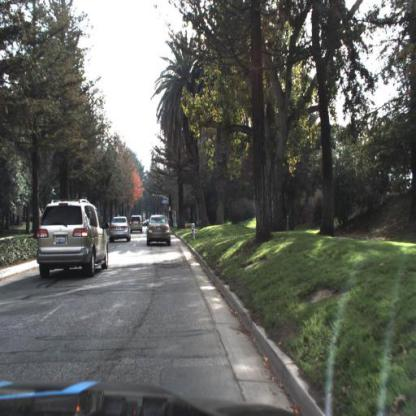car: (34, 194, 113, 286), (146, 210, 176, 250), (111, 215, 132, 245), (129, 214, 144, 233), (131, 214, 143, 235)
